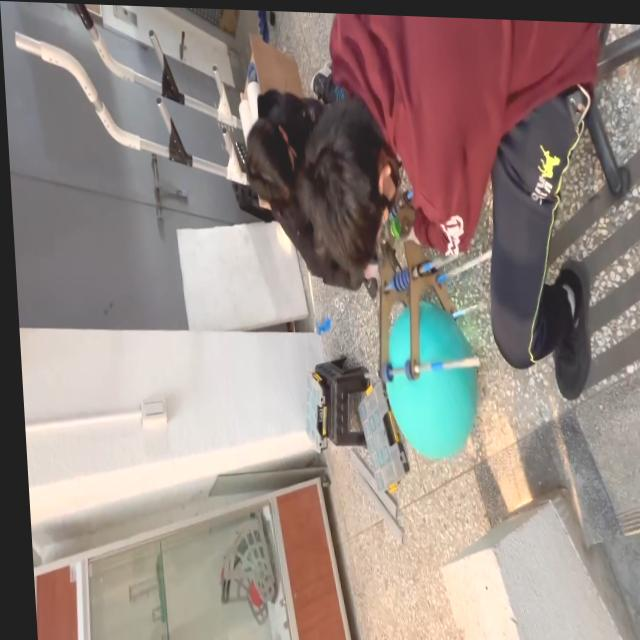ALGAE: (379, 297, 484, 463)
